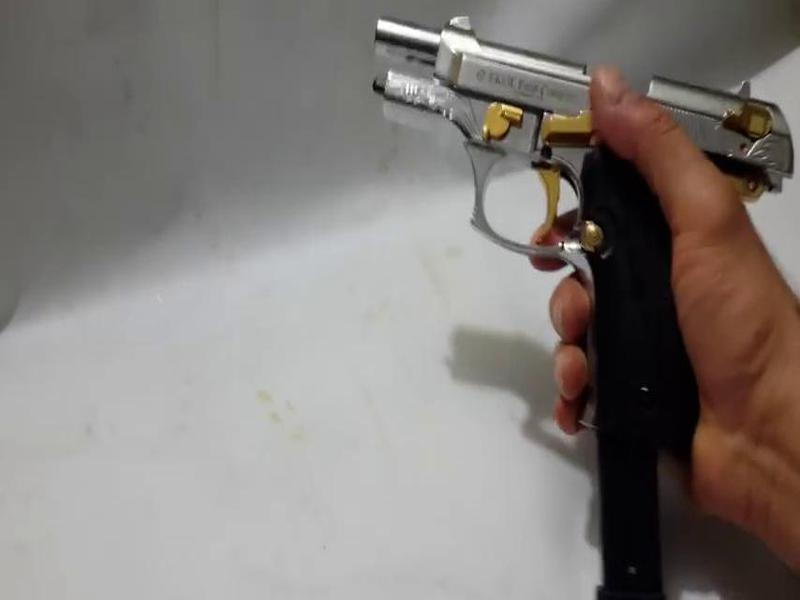Pistola: (373, 5, 793, 431)
